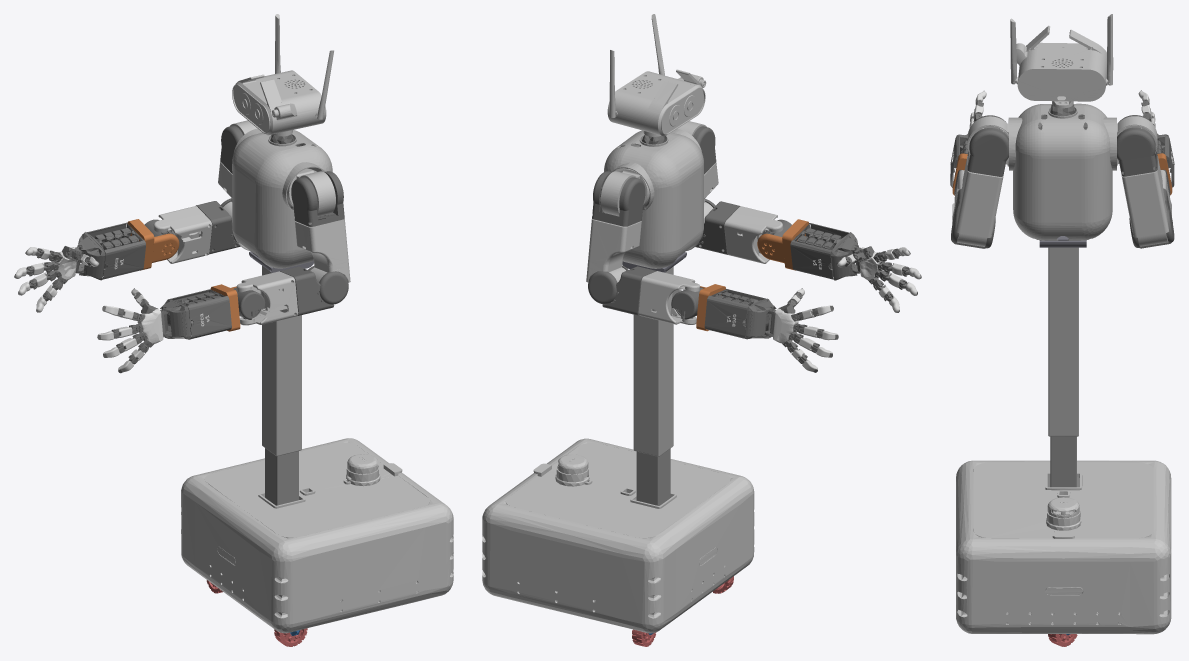
Rendered from mabel_rig.glb.
3 views of the same model, side by side, from view 1: azimuth 30°, elevation 25°; view 2: azimuth 150°, elevation 25°; view 3: azimuth 270°, elevation 25° (orthographic). The views are drawn at different scales.
Parts seen in each view (by area): view 1: mabel_chassis__v0, torso__v14, lift_top__v12, head__v18, l_shoulder_3__v22, r_forearm__v63, l_forearm__v24, l_elbow__v23, l_shoulder_2__v21, lift_mid__v11, left_tower__v28, right_tower__v66 (+7 smaller); view 2: mabel_chassis__v0, torso__v14, lift_top__v12, head__v18, r_shoulder_3__v61, l_forearm__v24, r_forearm__v63, r_elbow__v62, lift_mid__v11, r_shoulder_2__v60, right_tower__v67, left_tower__v27 (+7 smaller); view 3: mabel_chassis__v0, torso__v14, head__v18, lift_top__v12, r_shoulder_3__v61, l_shoulder_3__v22, l_shoulder_2__v21, r_shoulder_2__v60, lift_mid__v11, l_shoulder_1__v20, r_shoulder_1__v59, r_elbow__v62 (+2 smaller).
Boxes of the visible parts, x1,y1,x2,y2 form: mabel_chassis__v0: (181,438,453,633); torso__v14: (232,128,332,268); lift_top__v12: (262,266,301,456); head__v18: (232,14,333,135); l_shoulder_3__v22: (295,219,350,282); r_forearm__v63: (153,206,212,263); l_forearm__v24: (236,271,298,325); l_elbow__v23: (280,266,348,315); l_shoulder_2__v21: (291,171,344,226); lift_mid__v11: (265,448,298,505); left_tower__v28: (170,289,231,338); right_tower__v66: (77,224,143,280); mabel_chassis__v0: (482,438,754,633); torso__v14: (604,129,703,268); lift_top__v12: (633,266,673,456); head__v18: (607,14,706,135); r_shoulder_3__v61: (586,219,641,282); l_forearm__v24: (724,206,783,263); r_forearm__v63: (638,271,700,324); r_elbow__v62: (588,265,656,315); lift_mid__v11: (636,448,670,505); r_shoulder_2__v60: (592,171,645,226); right_tower__v67: (704,289,766,338); left_tower__v27: (793,224,858,280); mabel_chassis__v0: (956,460,1171,634); torso__v14: (1008,103,1116,240); head__v18: (1010,14,1113,101); lift_top__v12: (1048,247,1078,436); r_shoulder_3__v61: (1121,156,1168,246); l_shoulder_3__v22: (956,156,1003,246); l_shoulder_2__v21: (967,115,1008,176); r_shoulder_2__v60: (1117,115,1157,176); lift_mid__v11: (1050,436,1076,487); l_shoulder_1__v20: (967,116,1008,166); r_shoulder_1__v59: (1117,116,1157,165); r_elbow__v62: (1129,188,1174,248).
Size of the model in its own units: 0.9489 by 1.48 by 0.5069.
